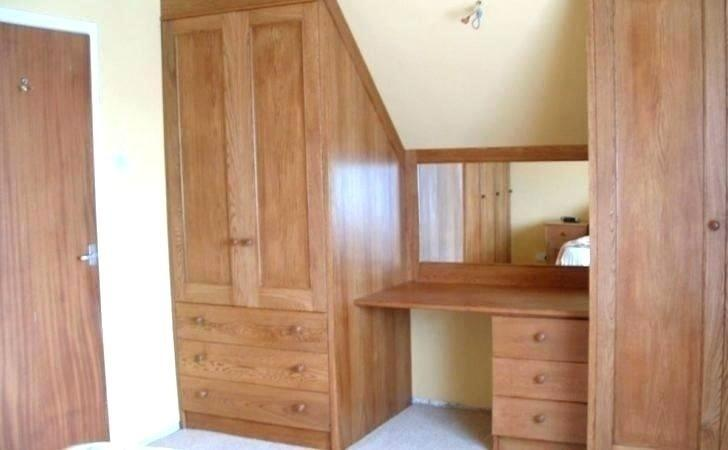cabinet_door: (592, 0, 728, 450), (244, 5, 328, 312), (166, 14, 242, 306), (182, 386, 330, 424), (178, 348, 329, 382), (178, 313, 327, 345), (491, 320, 584, 358), (494, 361, 584, 399), (494, 398, 584, 435)
handle: (78, 244, 97, 270), (705, 216, 725, 236), (291, 401, 312, 416), (288, 323, 304, 340), (532, 330, 548, 345), (291, 363, 308, 377), (196, 389, 211, 404), (532, 373, 547, 387), (192, 314, 207, 328), (193, 353, 207, 368), (229, 236, 242, 252), (532, 414, 546, 427), (244, 237, 254, 251)
